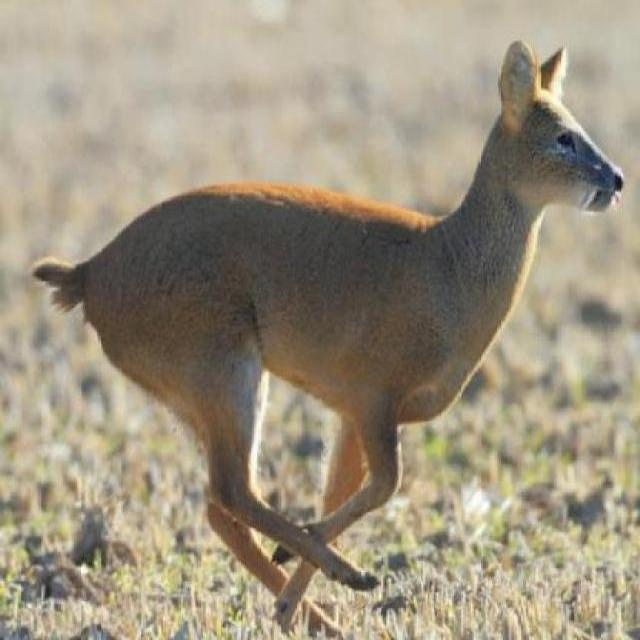deer: (31, 39, 631, 638)
